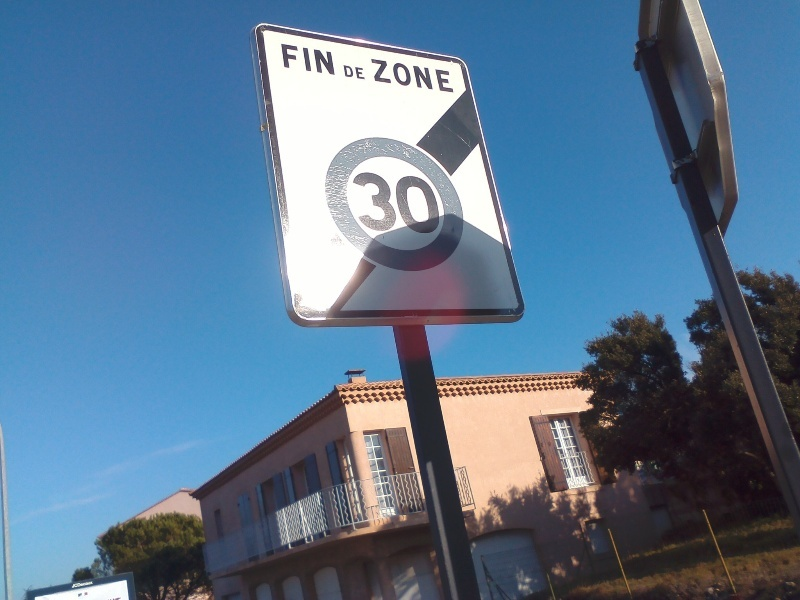text: (353, 172, 368, 236), (369, 172, 384, 236), (385, 172, 400, 236), (401, 172, 416, 236), (417, 172, 432, 236), (433, 172, 444, 236), (321, 43, 337, 77), (385, 58, 400, 94), (401, 58, 416, 94), (417, 58, 432, 94), (433, 58, 448, 94), (289, 43, 304, 77), (305, 43, 320, 77), (370, 58, 384, 94), (280, 43, 288, 77), (449, 58, 456, 94), (353, 64, 367, 81), (343, 64, 352, 81), (350, 172, 352, 236), (81, 581, 95, 590), (72, 581, 80, 590)
